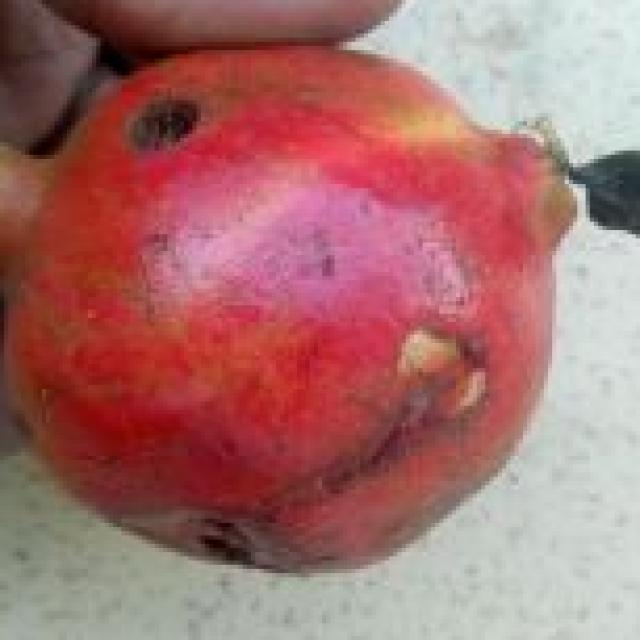Bad_Pomegranate-0-1-day: (0, 42, 640, 581)
